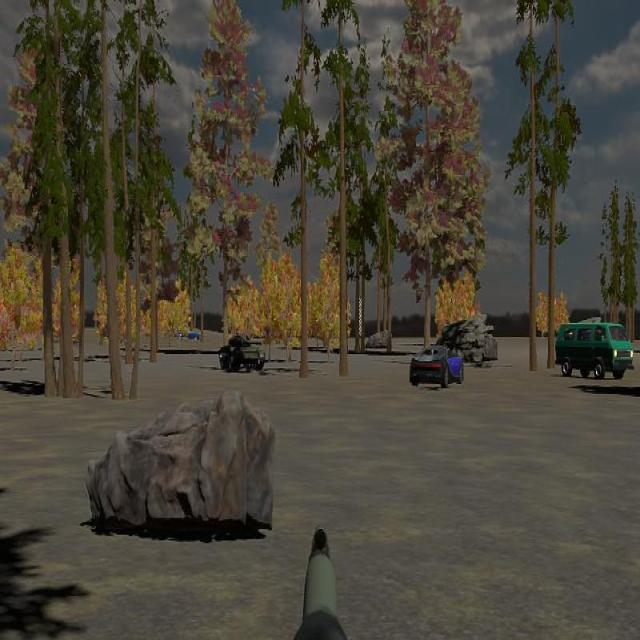Tank: (218, 332, 265, 373)
car: (555, 321, 633, 380), (409, 344, 464, 389)
